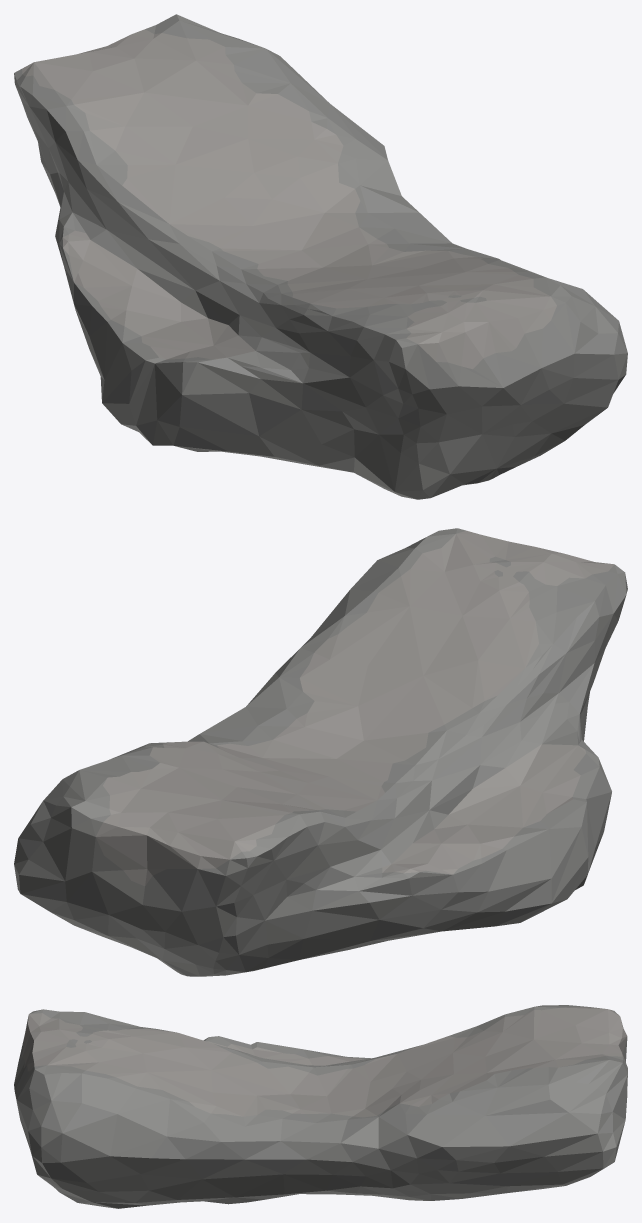
The model's file is Cavern_Floor_Narrow_Dip-02.fbx.
The picture shows the model from 3 angles, top to bottom: view 1: azimuth 30°, elevation 25°; view 2: azimuth 150°, elevation 25°; view 3: azimuth 270°, elevation 25°; orthographic projection. The views are drawn at different scales.
Parts seen in each view (by area): view 1: Cavern_Floor_Narrow_Dip-02; view 2: Cavern_Floor_Narrow_Dip-02; view 3: Cavern_Floor_Narrow_Dip-02.
Boxes of the visible parts, left/top/right/bottom form: Cavern_Floor_Narrow_Dip-02: left=14, top=14, right=627, bottom=499; Cavern_Floor_Narrow_Dip-02: left=14, top=528, right=627, bottom=976; Cavern_Floor_Narrow_Dip-02: left=14, top=1005, right=627, bottom=1208.
Bounding box in the file's own units: 932 × 484 × 1759.
Materials: 1 (1 with a texture image).
